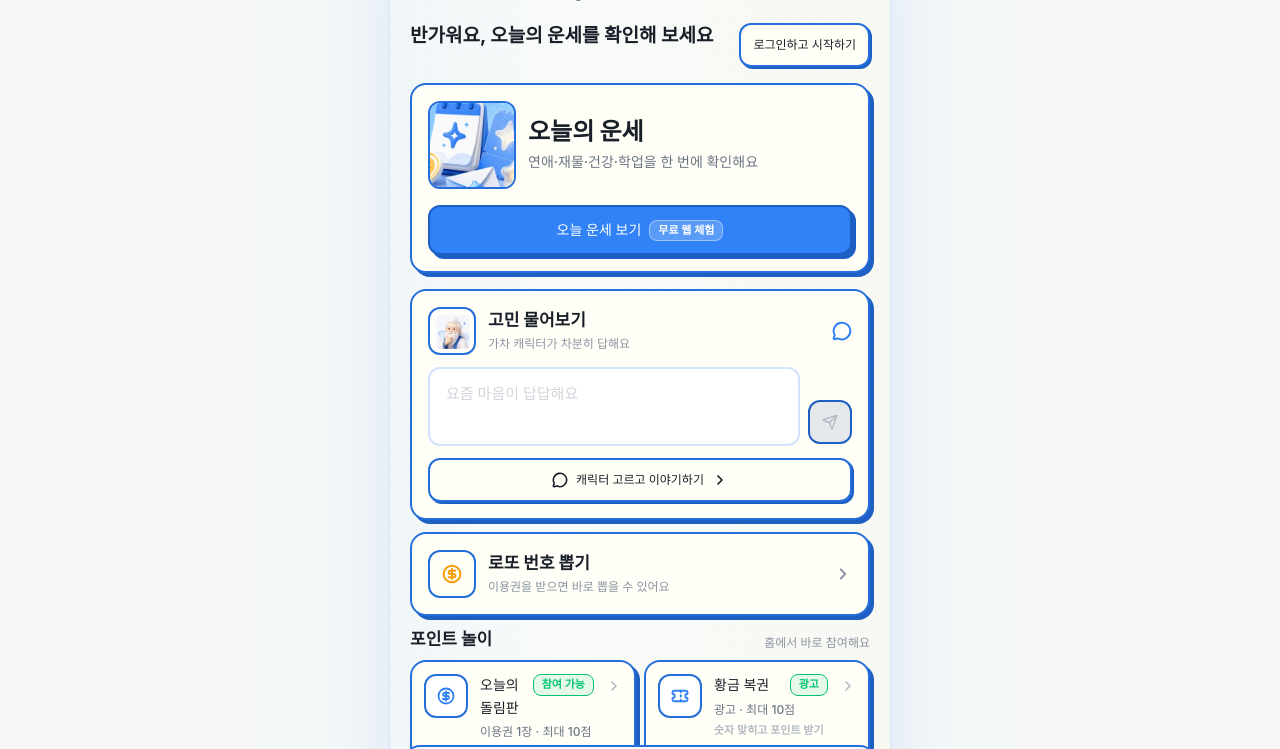
Test: original App public browser integration › keeps the original 23-character Ask grid and starts a real-request chat flow with zero native tickets
Expected: the heading "반가워요, 오늘의 운세를 확인해 보세요" is shown, left=410, top=23, right=727, bottom=49
Click the button "캐릭터 고르고 이야기하기" at (640, 480), box left=428, top=458, right=852, bottom=502
(page scrolled)
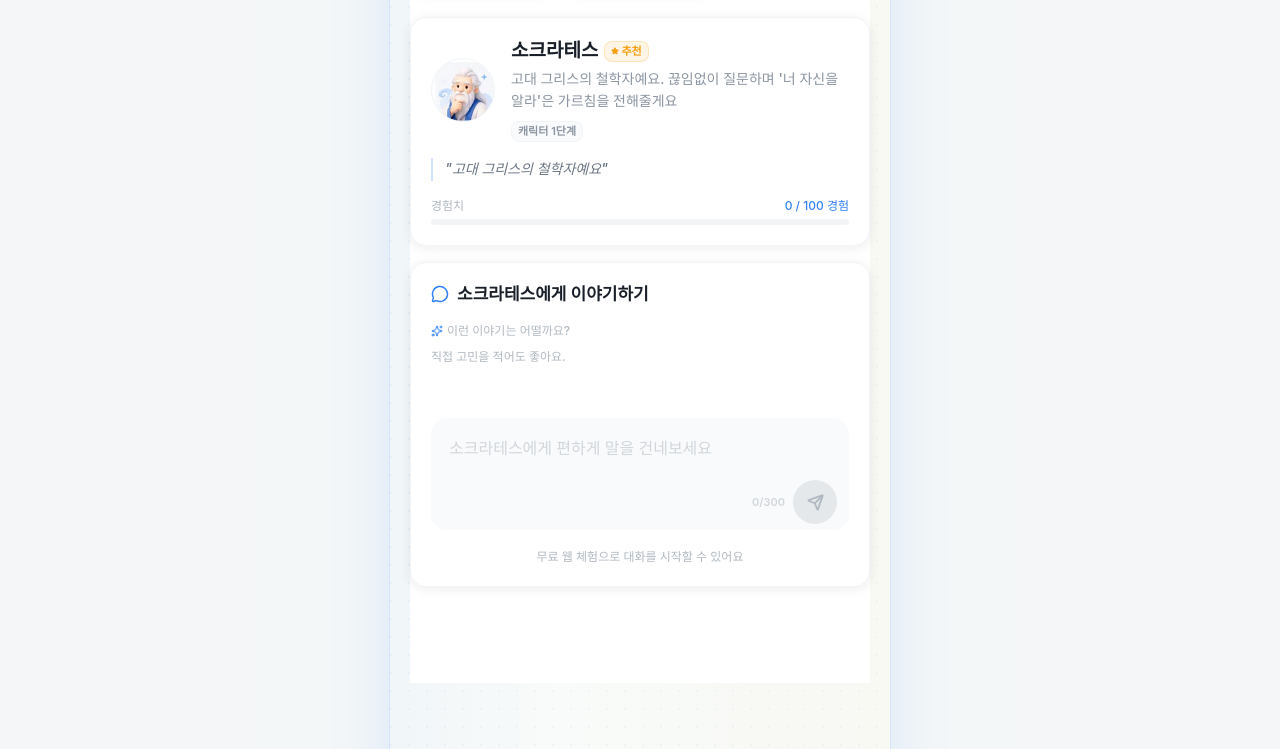
Now the text box with placeholder "소크라테스에게 편하게 말을 건네보세요" is enabled
Type "새로운 일을 시작하기가 망설여져요" into the text box with placeholder "소크라테스에게 편하게 말을 건네보세요" at (640, 474), box left=431, top=418, right=849, bottom=530
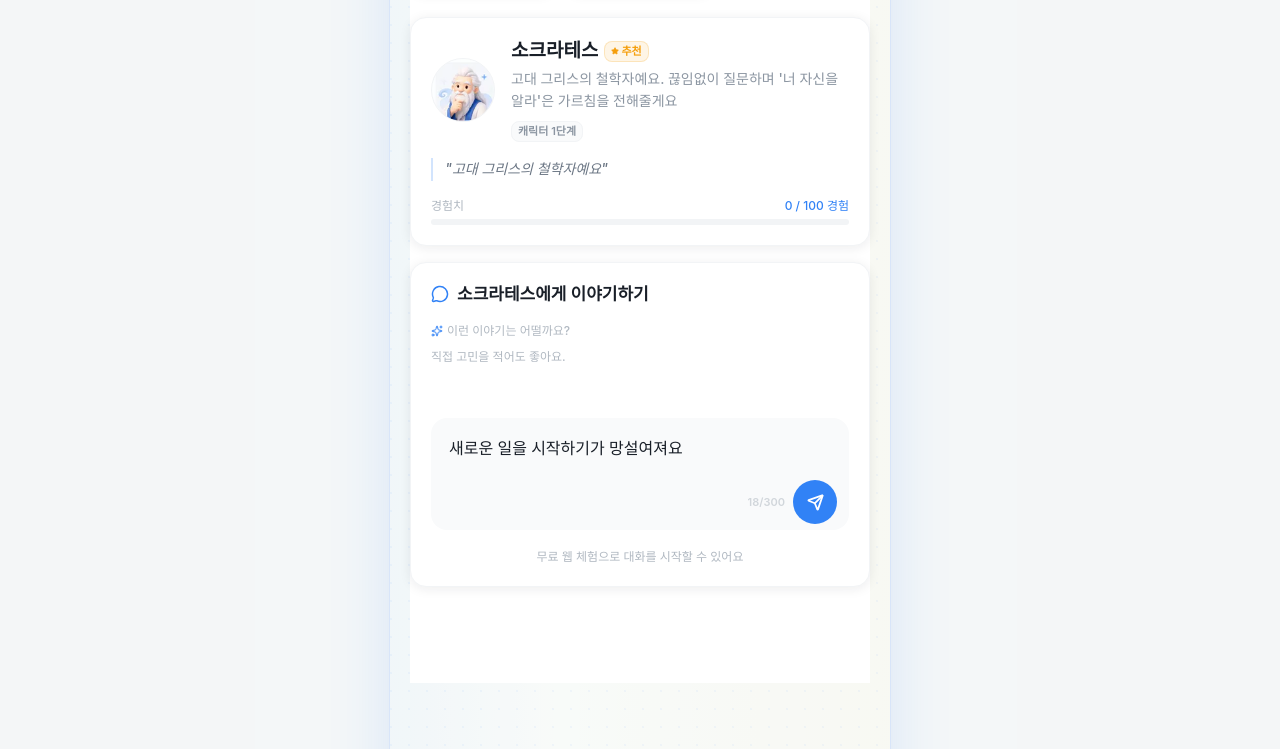
Click the button named "상담 시작하기" at (815, 502), box left=793, top=480, right=837, bottom=524
(page scrolled)
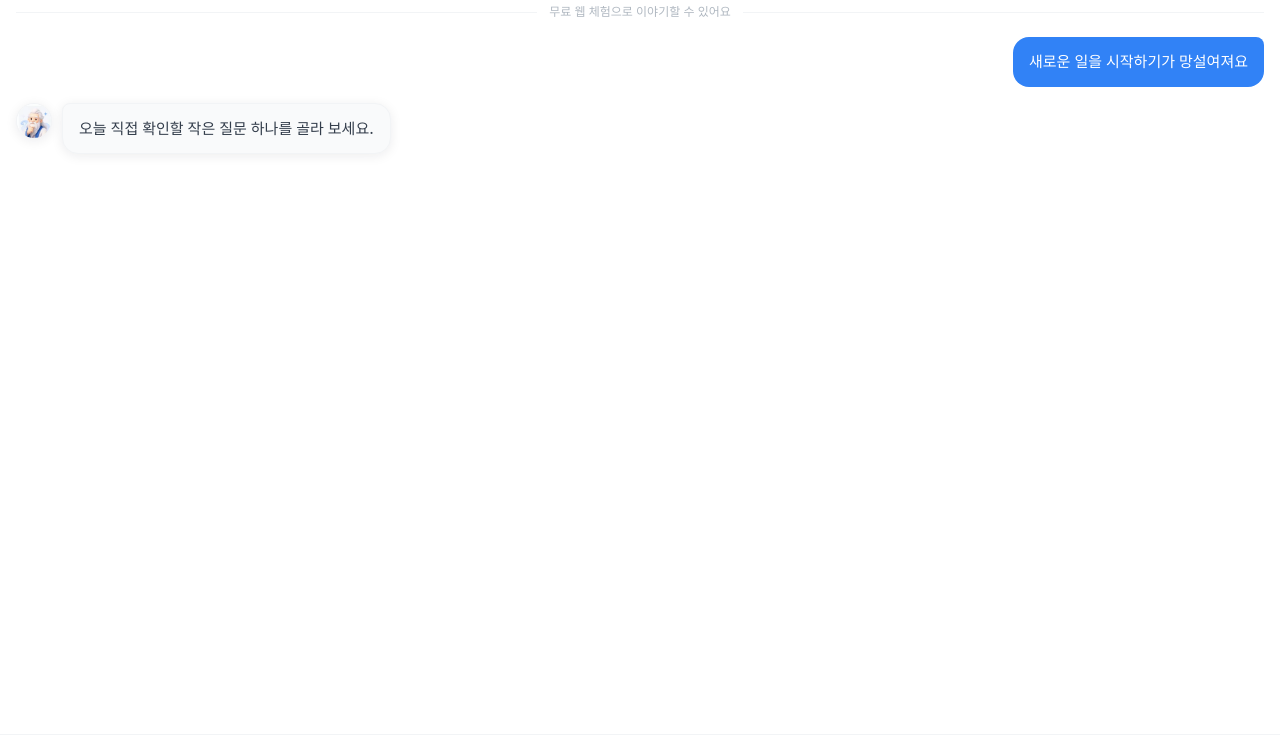
Now the text "오늘 직접 확인할 작은 질문 하나를 골라 보세요." is shown, box left=79, top=116, right=374, bottom=141
